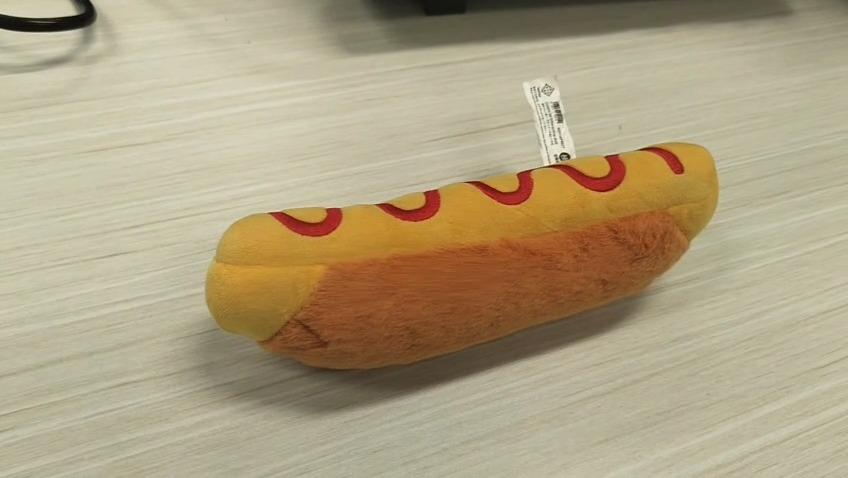hotdog: (204, 139, 719, 371)
